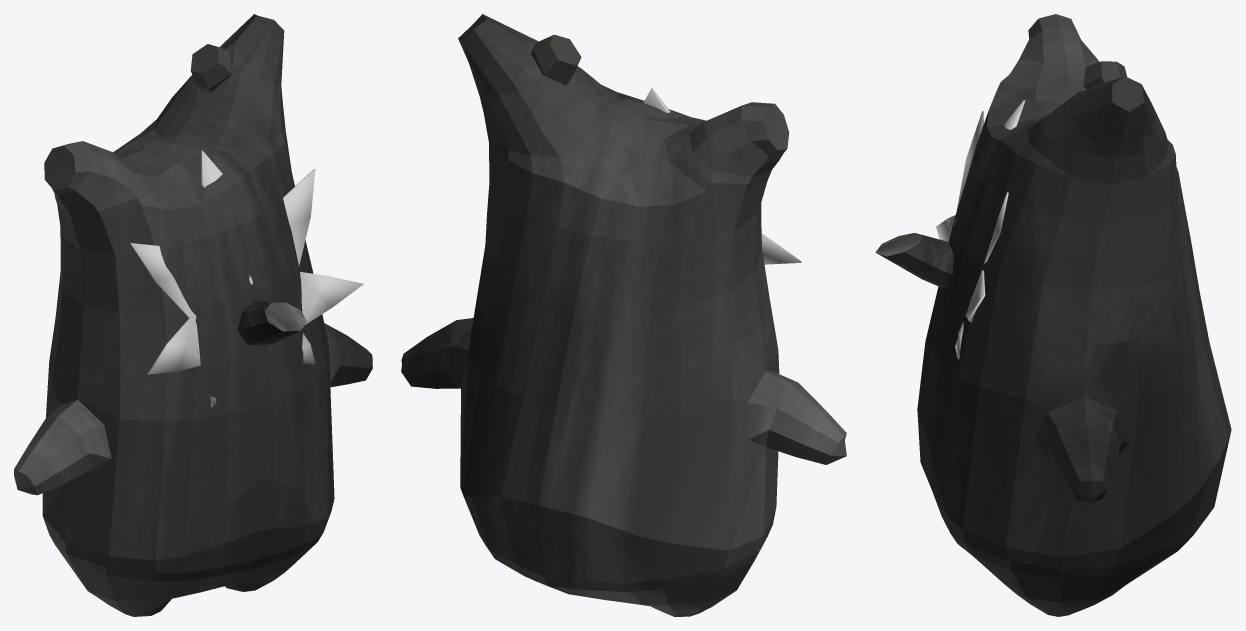
Rendered from frame_0019.obj.
3 renders of one model, left to right at view 1: azimuth 30°, elevation 25°; view 2: azimuth 150°, elevation 25°; view 3: azimuth 270°, elevation 25°, orthographic. The views are drawn at different scales.
Parts seen in each view (by area): view 1: korok, leaf, nose.003_柱体.011; view 2: korok, leaf; view 3: korok, nose.003_柱体.011, leaf.
Boxes of the visible parts, x1,y1,x2,y2 form: korok: (14, 14, 372, 616); leaf: (130, 150, 363, 407); nose.003_柱体.011: (238, 301, 307, 345); korok: (401, 14, 846, 616); leaf: (643, 87, 801, 264); korok: (917, 14, 1231, 616); nose.003_柱体.011: (875, 233, 953, 287); leaf: (936, 100, 1025, 359).
Bounding box in the file's own units: 1.7 × 2.29 × 1.32.
